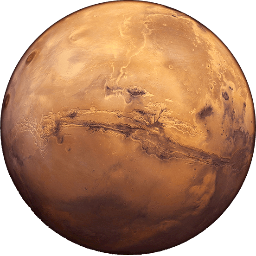planet: (1, 3, 254, 253)
